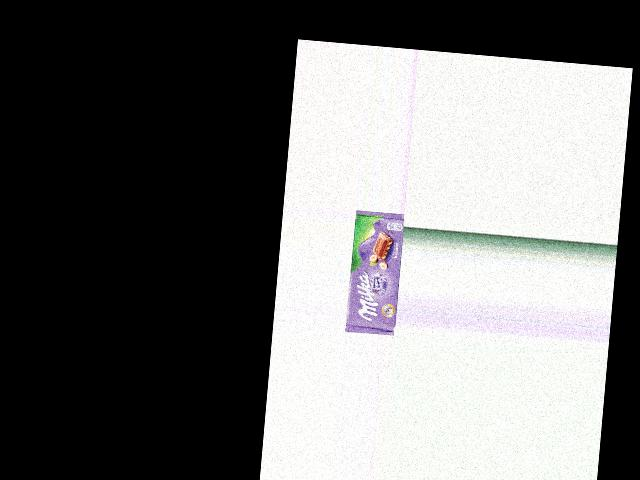chocolate: (345, 209, 405, 335)
